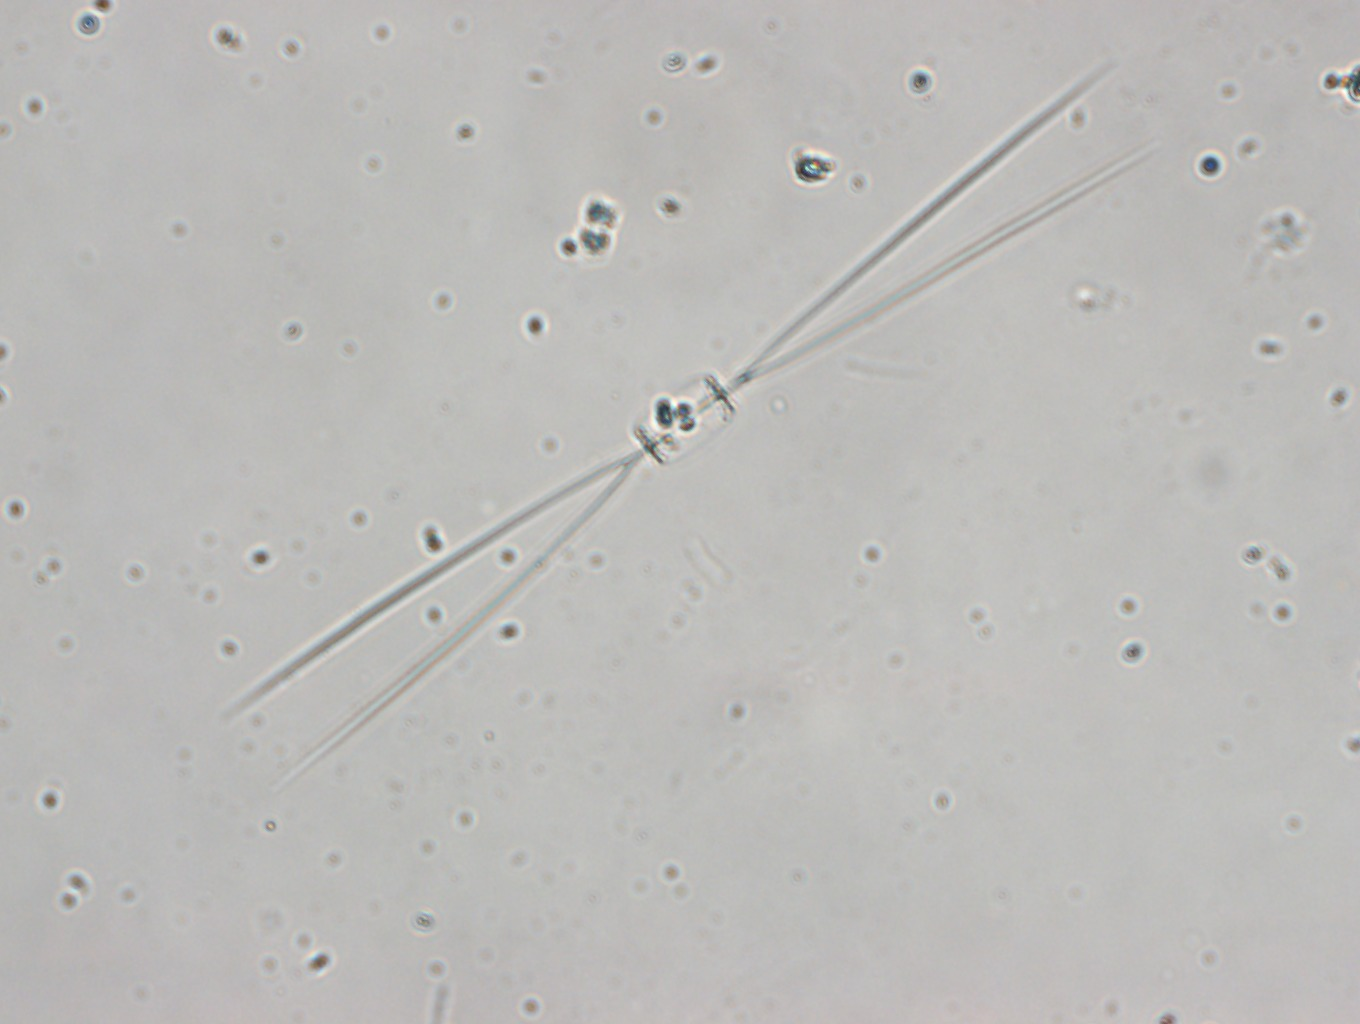chaetoceros: (215, 49, 1155, 787)
